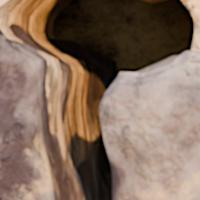broken_brick: (101, 50, 199, 199), (0, 28, 51, 199)
crack: (0, 0, 197, 199)
